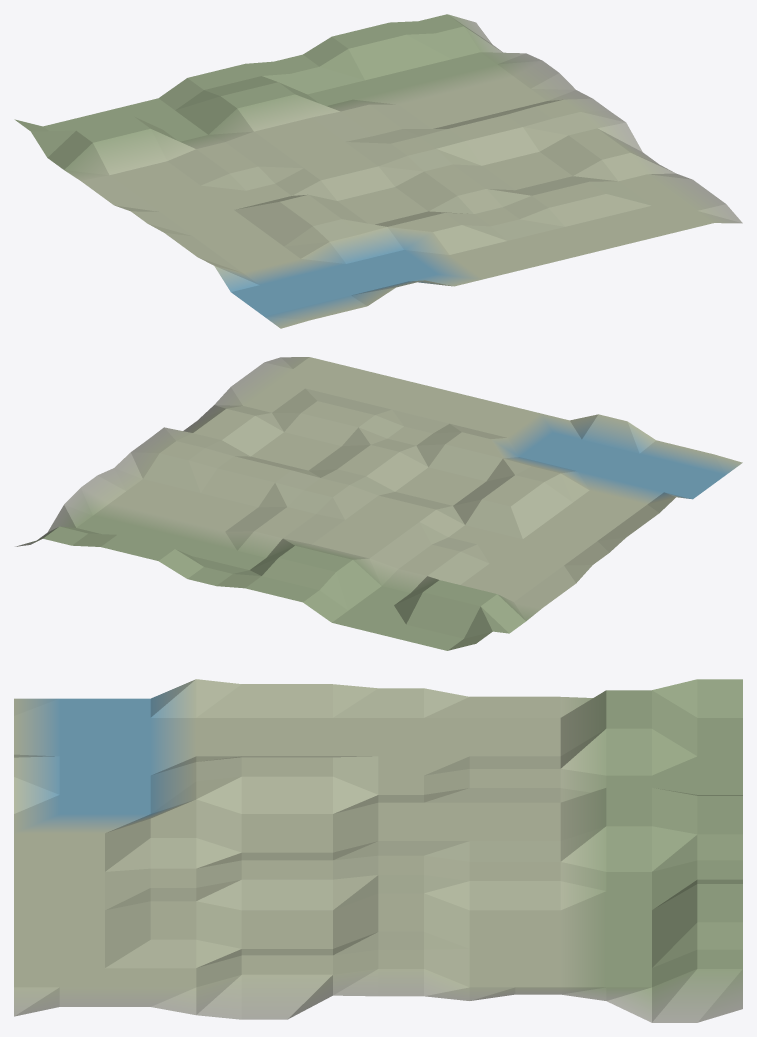
3 views of the same model, one above another, from view 1: azimuth 30°, elevation 25°; view 2: azimuth 150°, elevation 25°; view 3: azimuth 270°, elevation 25° (orthographic). The views are drawn at different scales.
Size of the model in its own units: 32 by 2.12 by 32.
